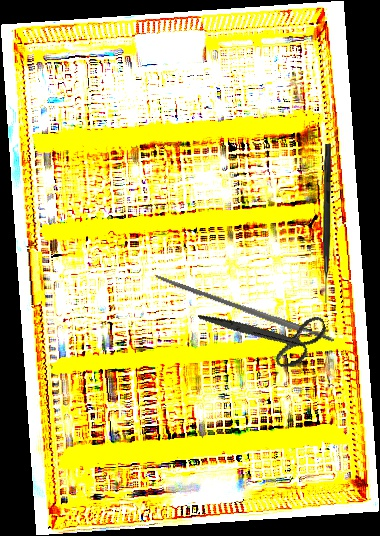Hook Surgical: (323, 144, 331, 303)
Iris Scissors: (197, 274, 335, 392)
Scalpel Handle: (154, 272, 335, 346)
